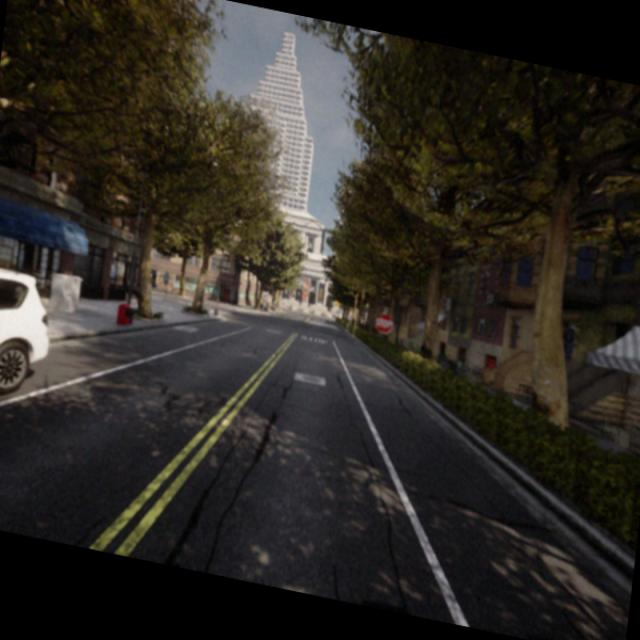stop sign: (373, 308, 395, 337)
